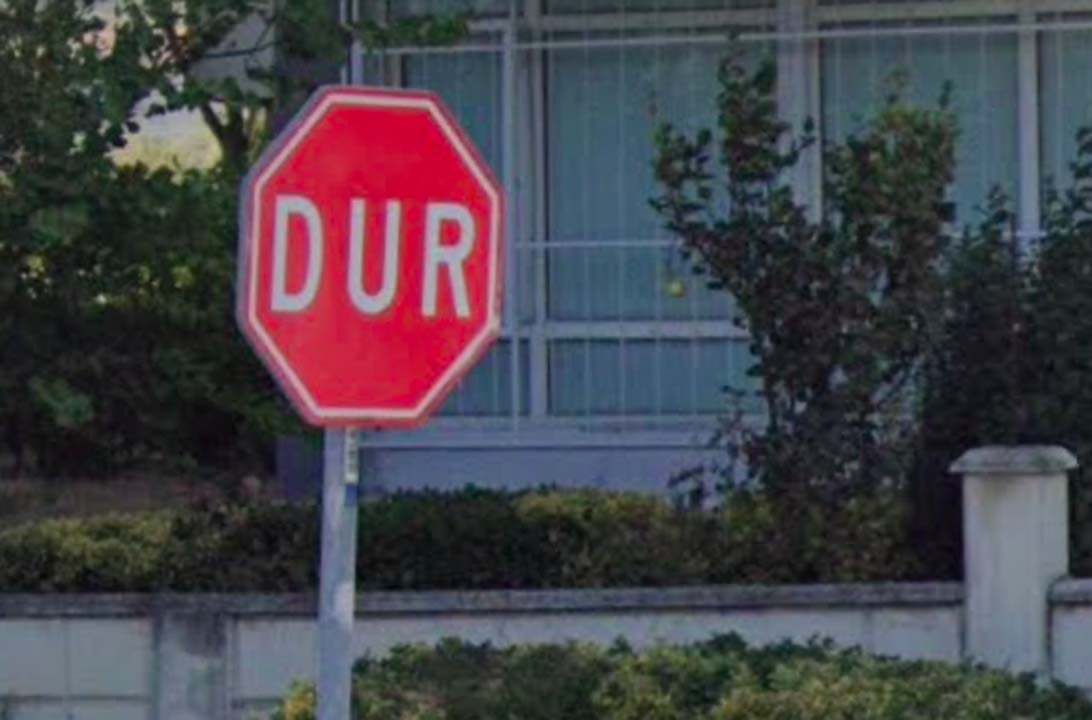arac_dur_isareti: (138, 52, 542, 525)
